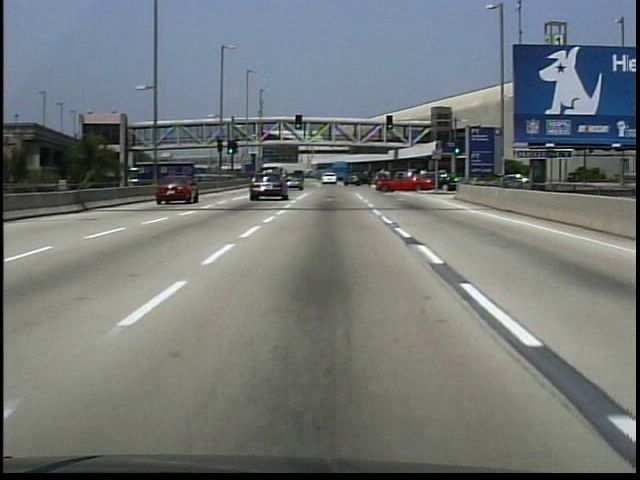person: (229, 132, 236, 144)
